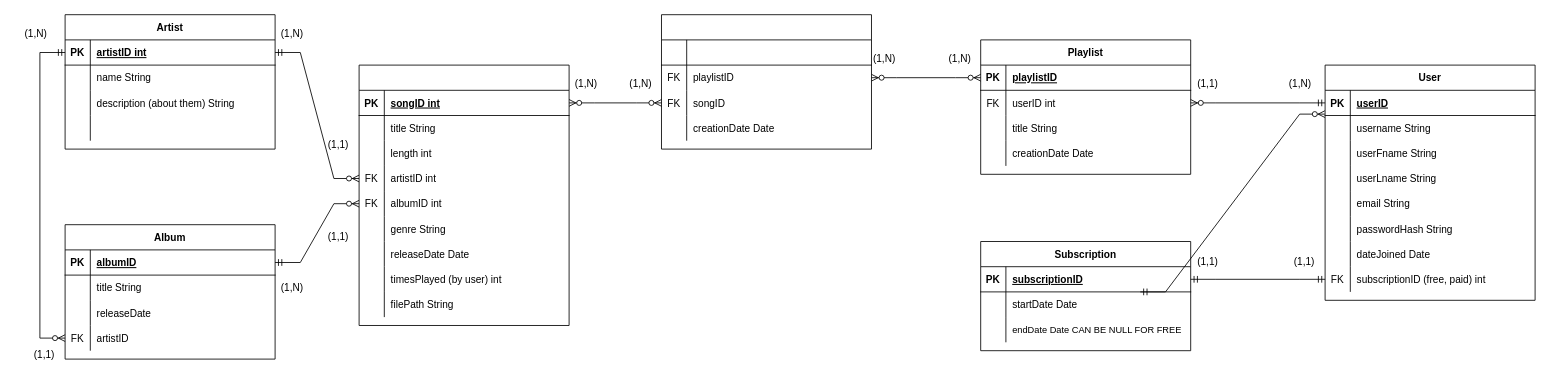
Image size: 1550x382. Some labels were removed from this diagram. Here are the shapes that lost their labels. From the top down, the box of each, then its label:
(661, 14, 872, 149): PlaylistSongs
(358, 64, 569, 326): Songs
